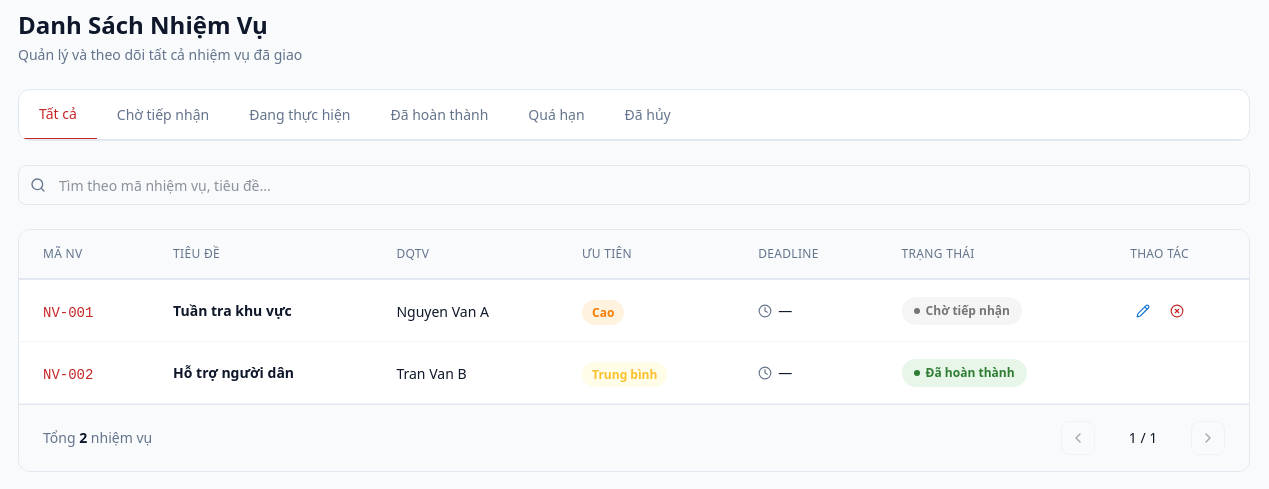
TaskListPage › filters by search term
The image size is (1269, 489).
Check: the element with test id "task-table" is shown, box left=18, top=229, right=1250, bottom=472
Step 1. Type "Tuần tra" into the field with test id "task-search-input" → (634, 185), box left=18, top=165, right=1250, bottom=205
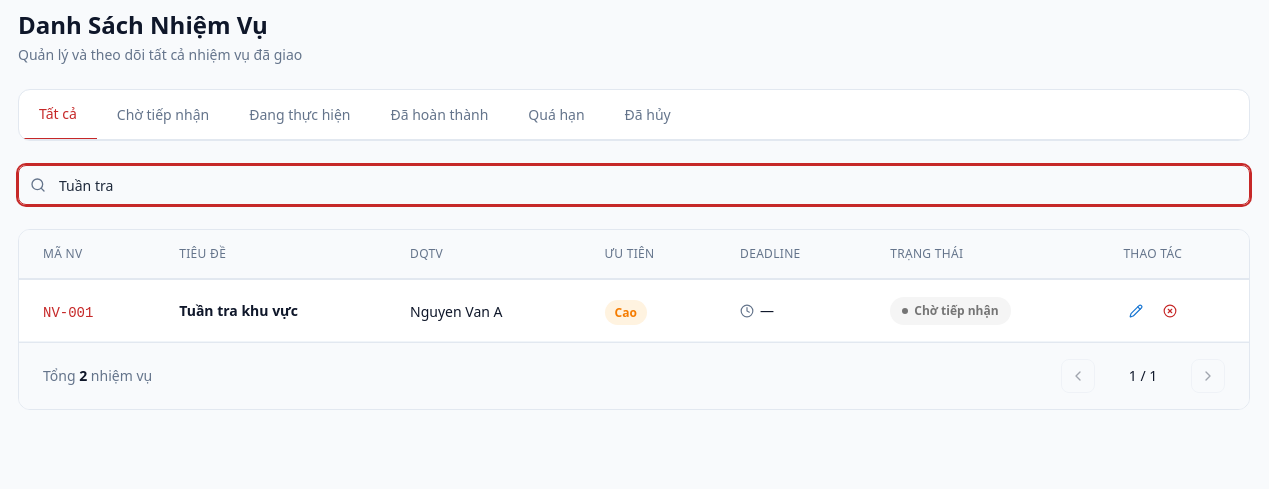
Check: the text "Tuần tra khu vực" is shown, box left=179, top=300, right=298, bottom=320
Check: the text "Hỗ trợ người dân" is gone
